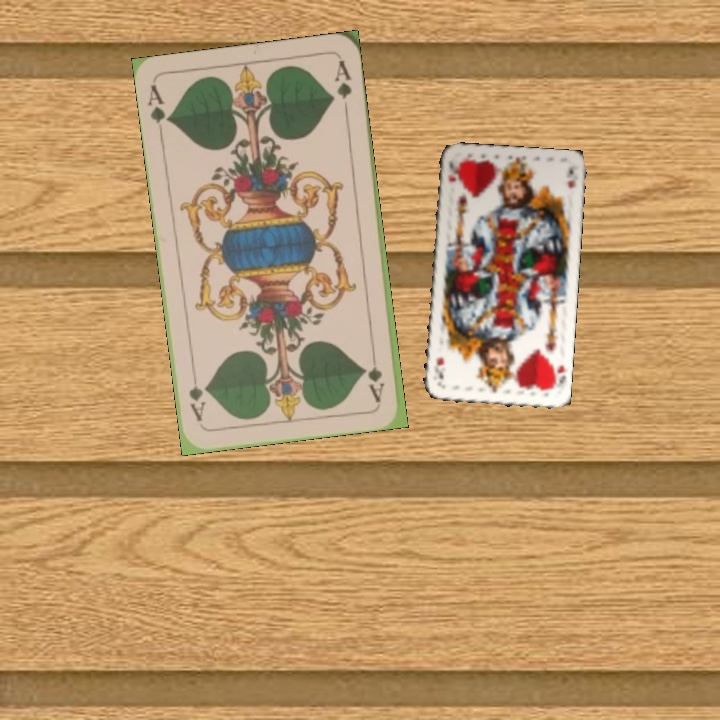GA: (144, 81, 174, 140), (365, 345, 387, 404)
HK: (547, 360, 568, 392), (443, 159, 460, 185)
